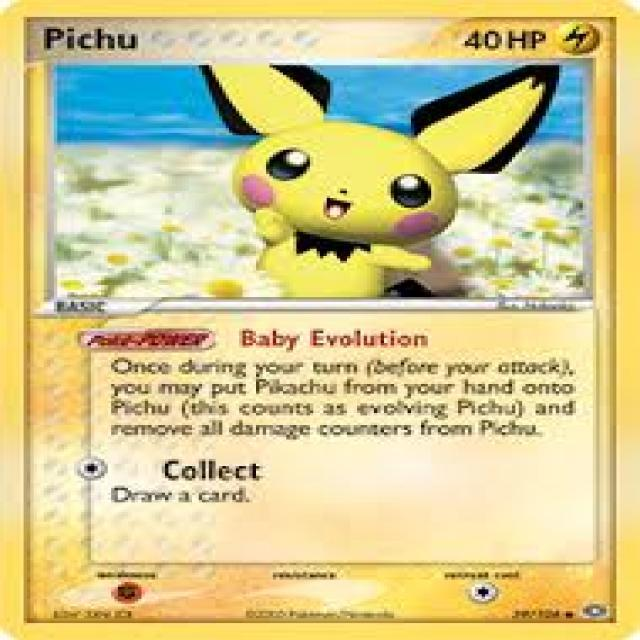pichu: (191, 65, 558, 304)
